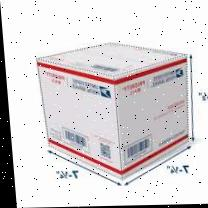cube: (38, 42, 197, 180)
